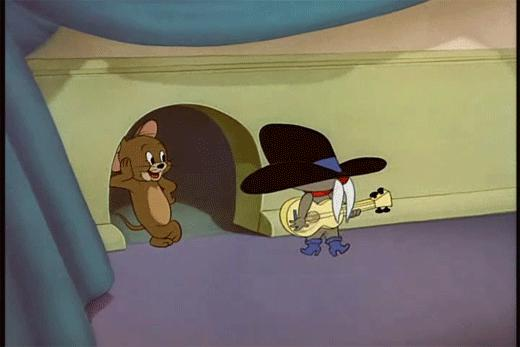jerry: (112, 120, 185, 249)
